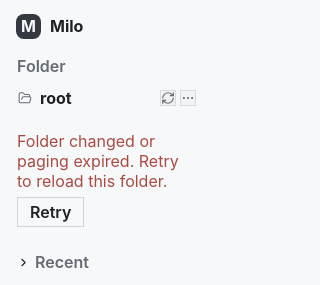
it: revalidates restored rows through native metadata and clears changed listings before retry
The width and height of the screenshot is (320, 285).
Expected: the message shows "Folder changed or paging expired. Retry to reload this folder.", [17,131,179,191]
Click the button "Retry" at (51, 212), box [17,197,84,227]
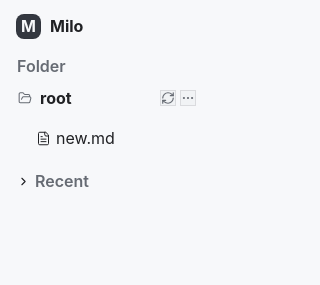
Expected: the button "new.md" is shown, [10,124,199,153]
